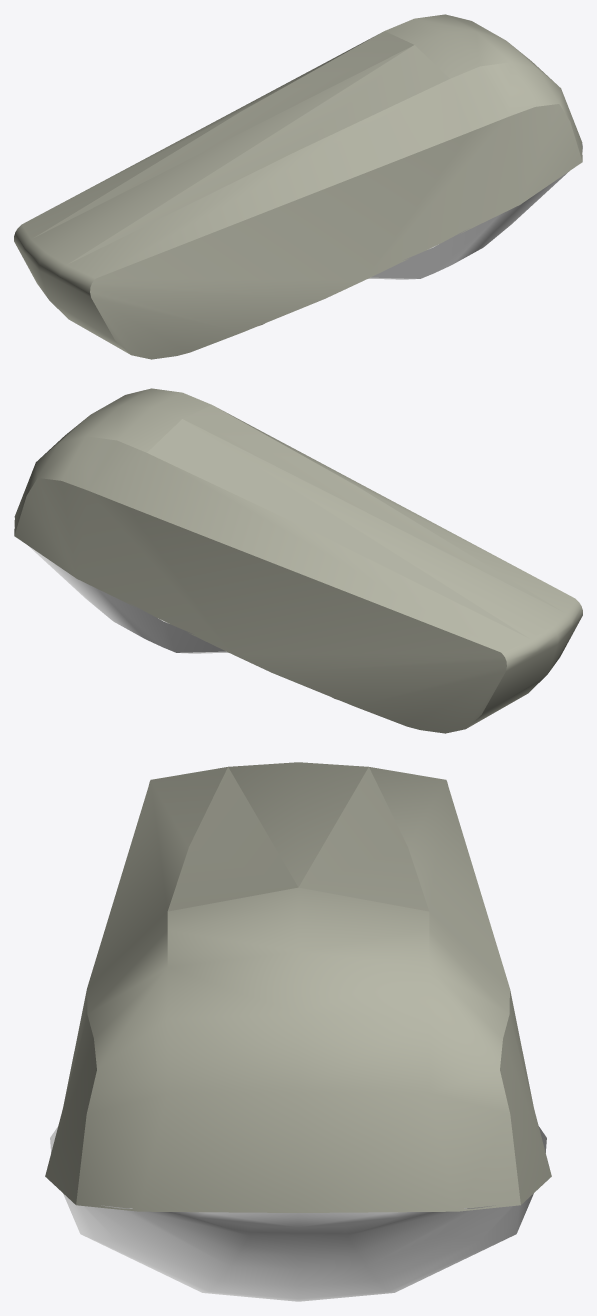
3 renders of one model, top to bottom at view 1: azimuth 30°, elevation 25°; view 2: azimuth 150°, elevation 25°; view 3: azimuth 270°, elevation 25°, orthographic. The views are drawn at different scales.
Visible parts, largest first — view 1: BezierCurve.006, BezierCurve.004; view 2: BezierCurve.006, BezierCurve.004; view 3: BezierCurve.006, BezierCurve.004.
Boxes of the visible parts, <box> form: BezierCurve.006: <box>14,14,582,359</box>; BezierCurve.004: <box>259,144,582,325</box>; BezierCurve.006: <box>14,388,582,733</box>; BezierCurve.004: <box>14,518,337,699</box>; BezierCurve.006: <box>45,762,551,1212</box>; BezierCurve.004: <box>50,1126,546,1301</box>.
Size of the model in its own units: 0.7943 by 0.3232 by 0.3438.
3 materials, 2 textured.
